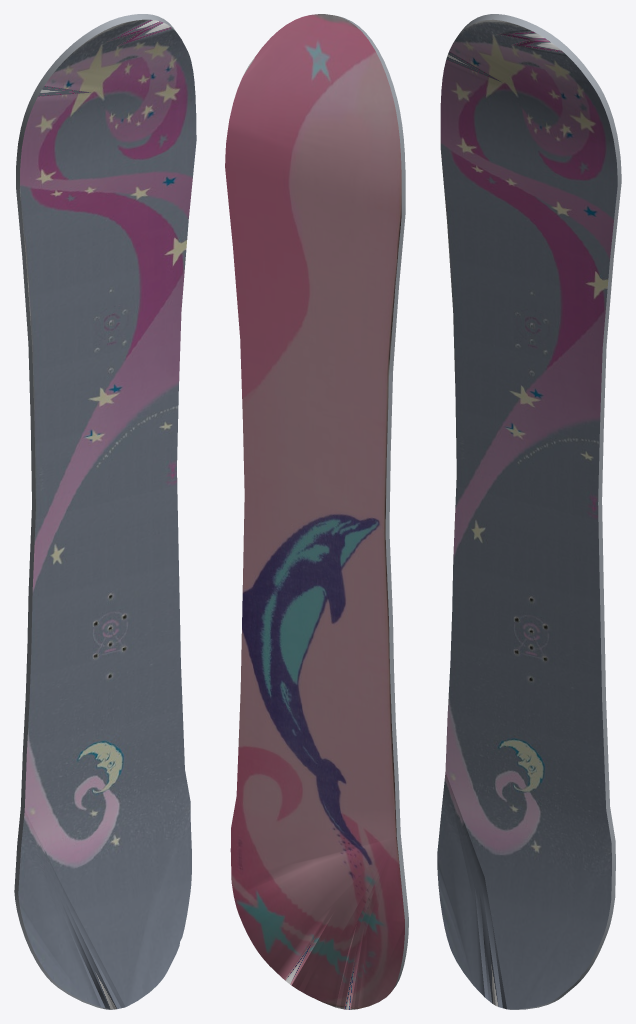
The model's file is DearRider_1996_Dolphin.gltf.
The picture shows the model from 3 angles, left to right: view 1: azimuth 30°, elevation 25°; view 2: azimuth 150°, elevation 25°; view 3: azimuth 330°, elevation 25°; orthographic projection.
Parts seen in each view (by area): view 1: Extrude.1-Mat, Extrude.1-Mat.1; view 2: Extrude.1-Mat, Extrude.1-Mat.1; view 3: Extrude.1-Mat, Extrude.1-Mat.1.
Boxes of the visible parts, x1=… form: Extrude.1-Mat: x1=18, y1=19, x2=196, y2=1009; Extrude.1-Mat.1: x1=14, y1=14, x2=175, y2=1009; Extrude.1-Mat: x1=225, y1=14, x2=404, y2=1009; Extrude.1-Mat.1: x1=336, y1=15, x2=408, y2=989; Extrude.1-Mat: x1=437, y1=19, x2=617, y2=1009; Extrude.1-Mat.1: x1=458, y1=14, x2=621, y2=1009.
Size of the model in its own units: 26.29 by 139 by 6.16.
3 materials, 2 textured.
